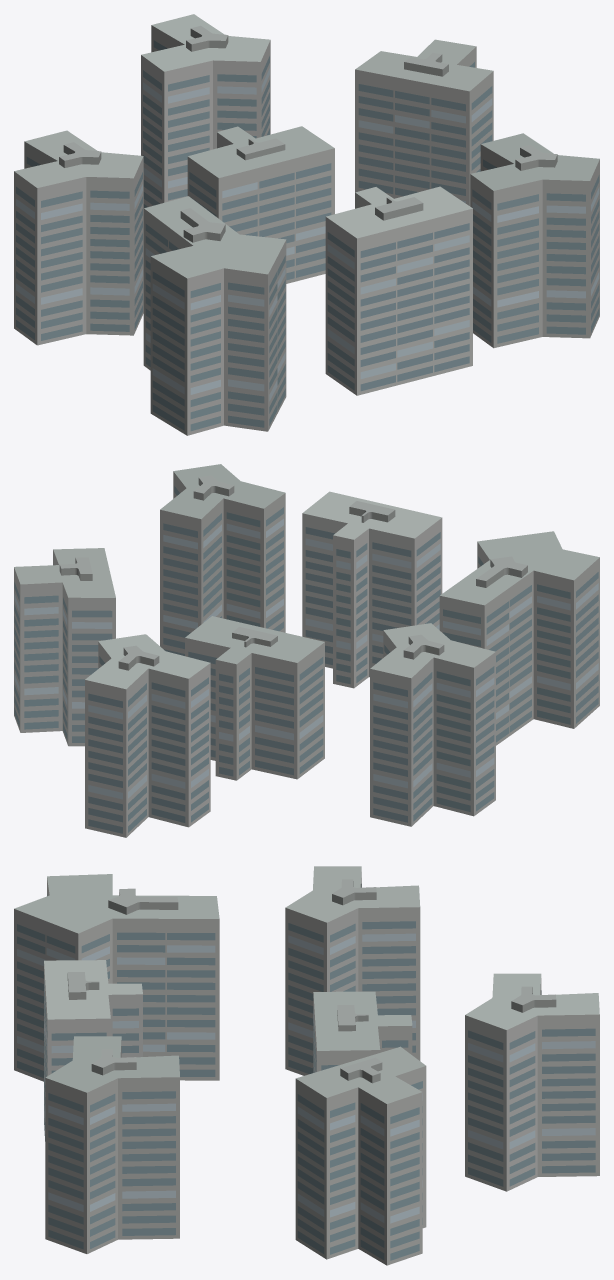
The model's file is apt-a10027681.glb.
3 views of the same model, one above another, from view 1: azimuth 30°, elevation 25°; view 2: azimuth 150°, elevation 25°; view 3: azimuth 270°, elevation 25° (orthographic). The views are drawn at different scales.
Parts seen in each view (by area): view 1: apt-a10027681; view 2: apt-a10027681; view 3: apt-a10027681.
Part boxes in pixels (<box>): apt-a10027681: <box>14,14,599,435</box>; apt-a10027681: <box>14,464,599,837</box>; apt-a10027681: <box>14,866,599,1265</box>.
Bounding box in the file's own units: 112 × 37 × 116.
